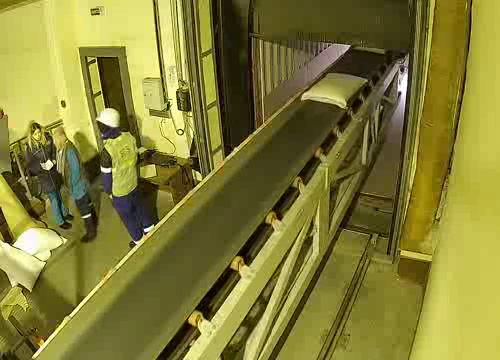bag: (300, 73, 369, 107), (353, 46, 387, 55)
